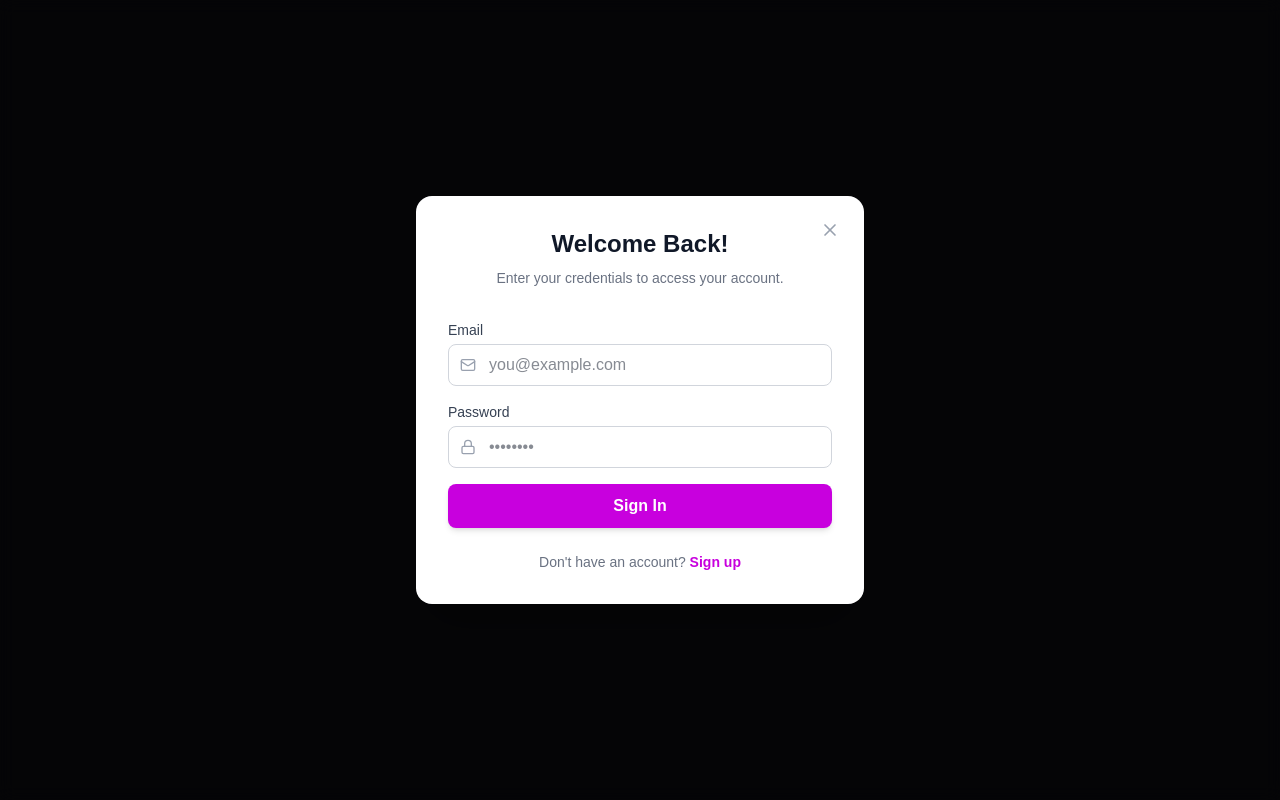
Test case: AuthModal Component › toggles to the sign up form when the toggle button is clicked
// find the toggle button and click it
What coordinates should you click on to do the following:
click the button "Sign up"
I would click on:
 (715, 562)
Its box is left=690, top=552, right=741, bottom=572.
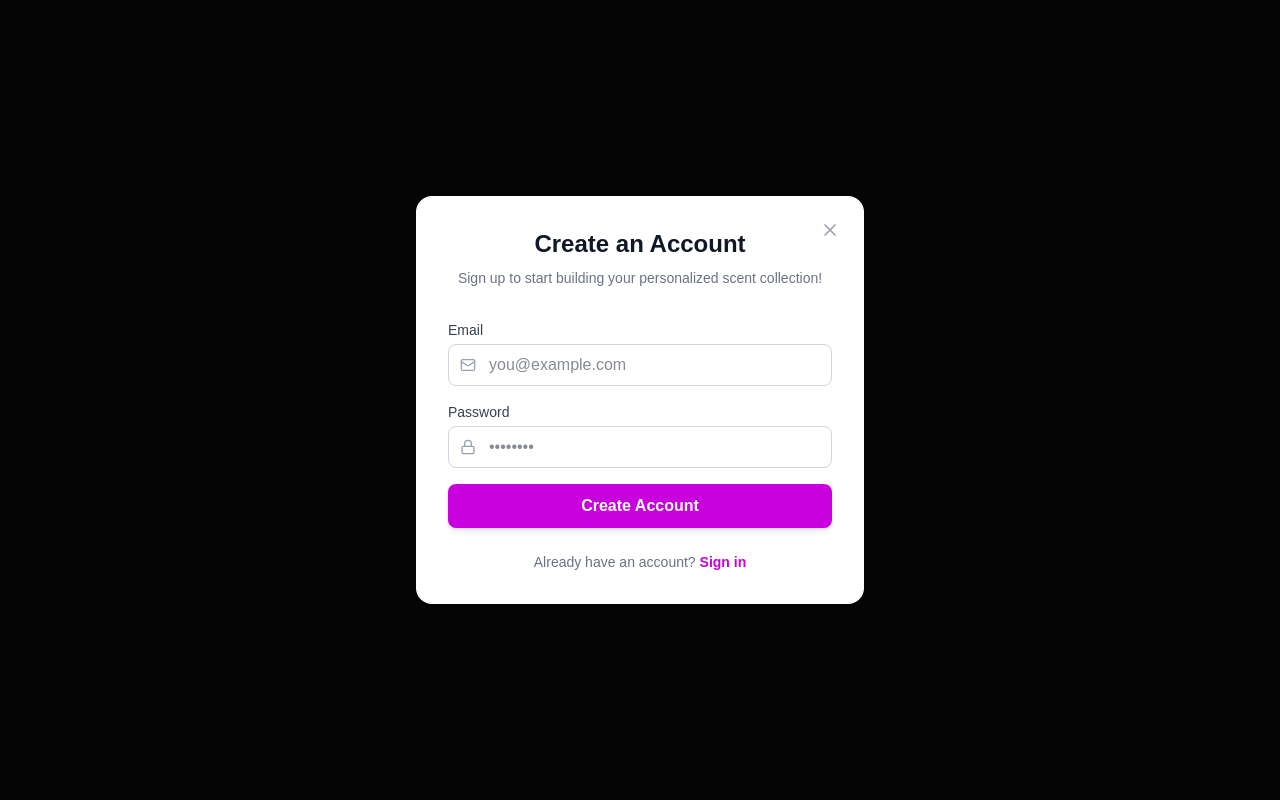
Check: the heading "Create an Account" is shown, box left=534, top=230, right=746, bottom=257
Check: the button "Create Account" is shown, box left=448, top=484, right=832, bottom=528
